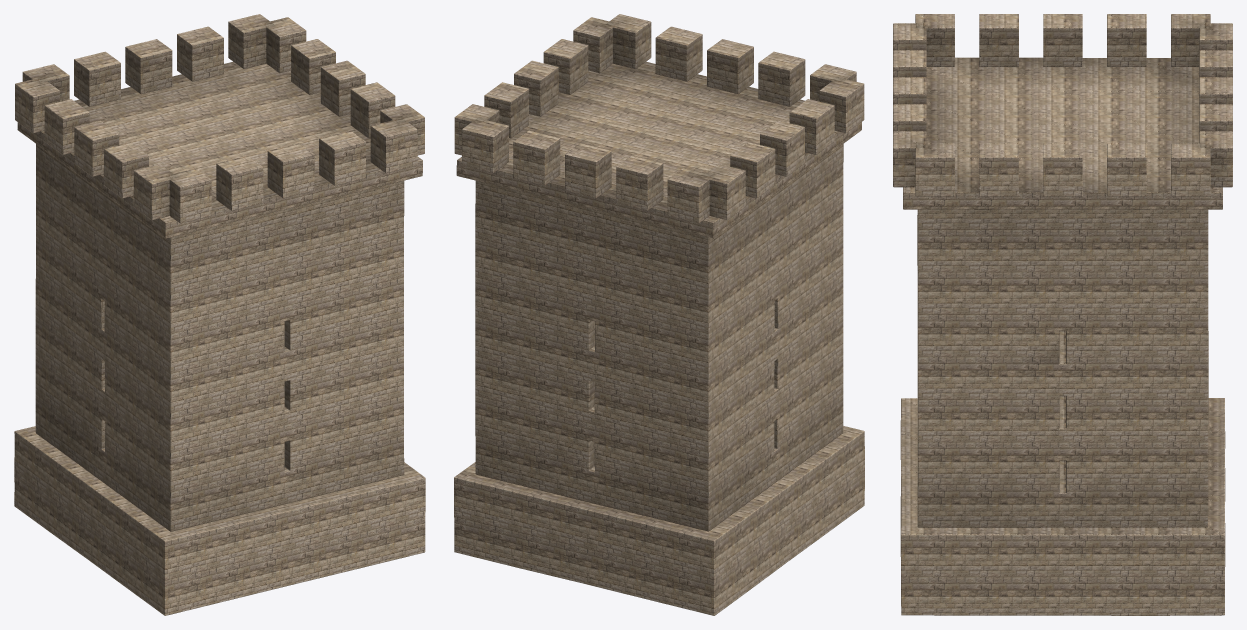
File: w_tower_big.glb
3 renders of one model, left to right at view 1: azimuth 30°, elevation 25°; view 2: azimuth 150°, elevation 25°; view 3: azimuth 270°, elevation 25°, orthographic. The views are drawn at different scales.
Visible parts, largest first — view 1: tower_big; view 2: tower_big; view 3: tower_big.
Boxes of the visible parts, x1=… form: tower_big: x1=14, y1=14, x2=425, y2=615; tower_big: x1=454, y1=14, x2=864, y2=615; tower_big: x1=893, y1=14, x2=1232, y2=615.
Bounding box in the file's own units: 15.2 × 22.81 × 15.2.
Materials: 1 (1 with a texture image).
